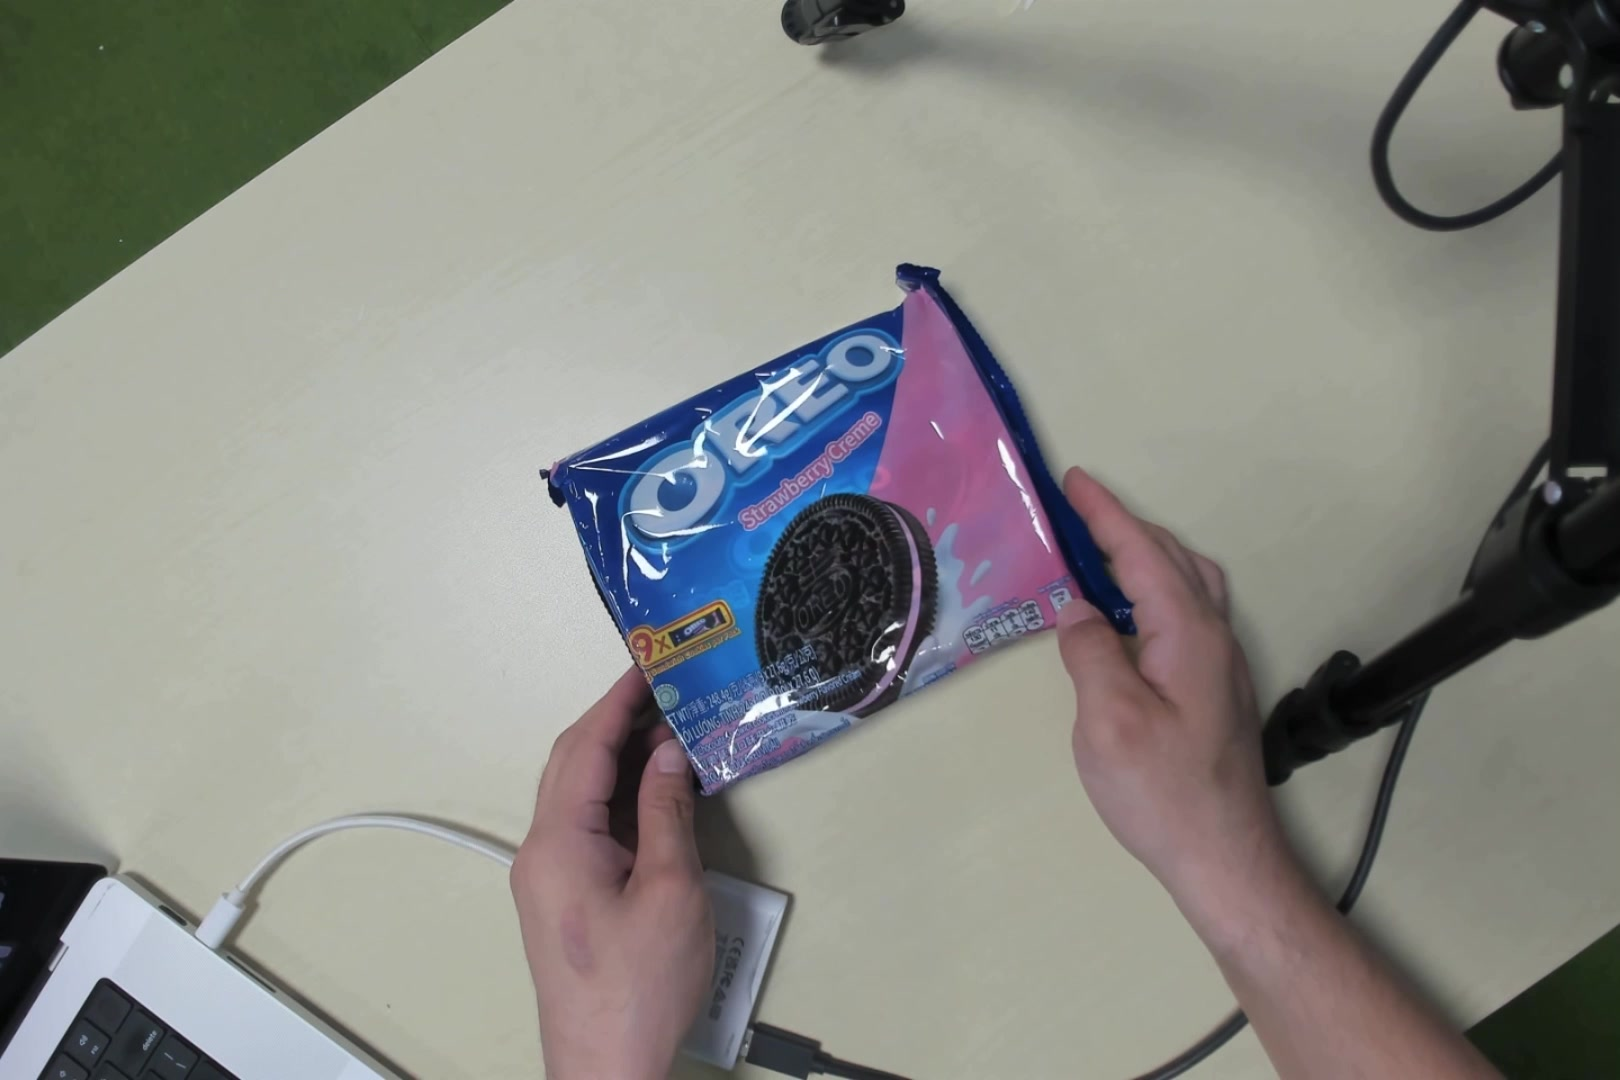SweetsChocolatesOthers_200-299g_Halal_NonHealthy: (568, 278, 1052, 729)
